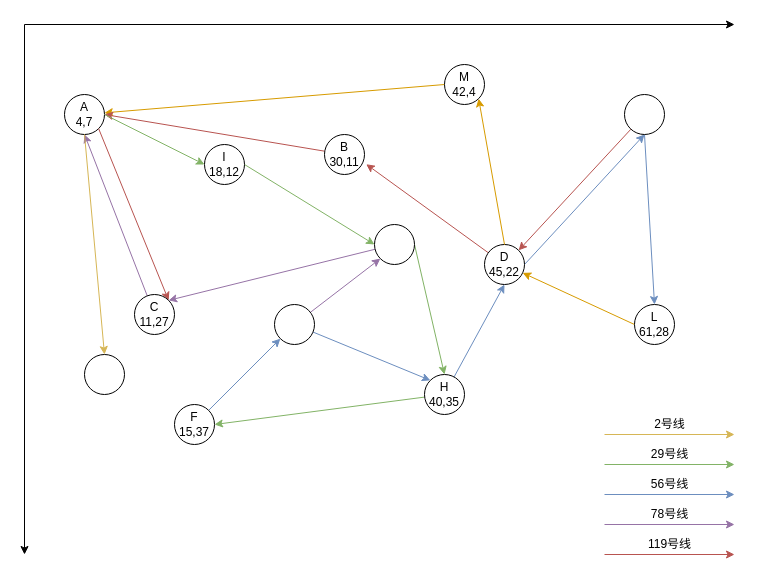
Some shapes in this 760 by 580 pixel diagram are drawn without their labels. The shapes that lost their labels are listed below. From the top down, each one's box as (x1, y1, x2, y2) in pixels, then its label:
(624, 94, 664, 134): G 60,6
(374, 224, 414, 264): J 35,20
(274, 304, 314, 344): E 25,28
(84, 354, 124, 394): K 6,33
